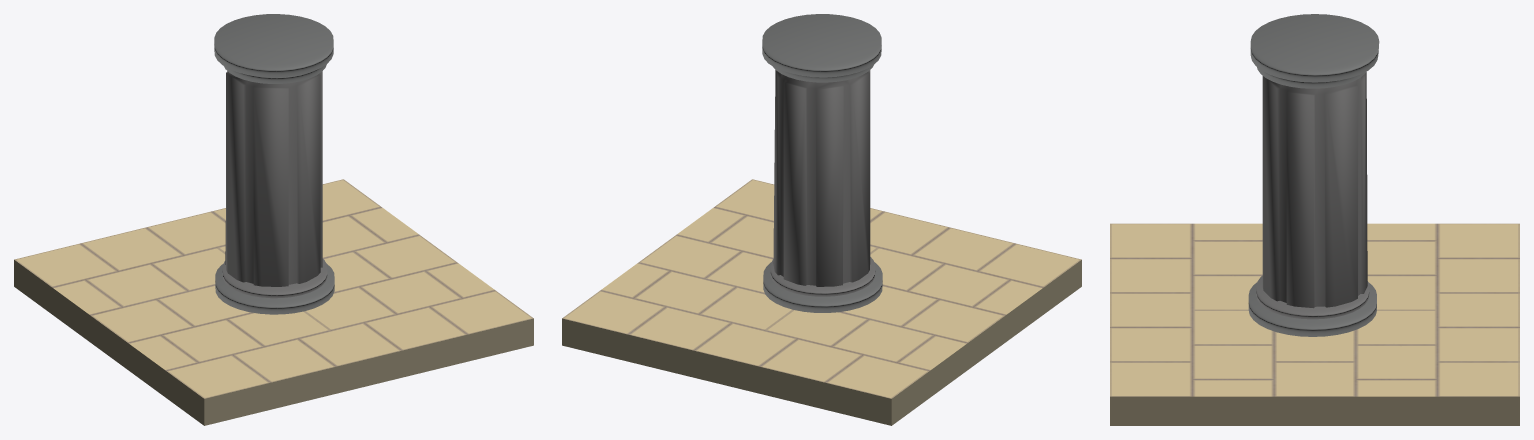
The model's file is tile0077.gltf.
3 views of the same model, side by side, from view 1: azimuth 30°, elevation 25°; view 2: azimuth 150°, elevation 25°; view 3: azimuth 270°, elevation 25° (orthographic). The views are drawn at different scales.
Visible parts, largest first — view 1: Cube, 圓柱體.002, 圓柱體.003, 圓柱體, 圓柱體.001, 圓柱體.004; view 2: Cube, 圓柱體.002, 圓柱體.003, 圓柱體, 圓柱體.001, 圓柱體.004; view 3: Cube, 圓柱體.002, 圓柱體.003, 圓柱體, 圓柱體.001, 圓柱體.004.
Part boxes in pixels (x1,y1,x2,y2): Cube: (14,179,533,425); 圓柱體.002: (225,71,322,286); 圓柱體.003: (214,14,333,77); 圓柱體: (215,263,334,314); 圓柱體.001: (222,259,327,298); 圓柱體.004: (224,64,326,83); Cube: (562,179,1081,425); 圓柱體.002: (773,70,870,286); 圓柱體.003: (762,14,881,77); 圓柱體: (763,262,882,312); 圓柱體.001: (770,257,875,296); 圓柱體.004: (773,65,873,82); Cube: (1110,223,1519,425); 圓柱體.002: (1262,72,1367,308); 圓柱體.003: (1250,14,1379,82); 圓柱體: (1248,282,1376,336); 圓柱體.001: (1256,275,1369,319); 圓柱體.004: (1257,67,1366,88).
Bounding box in the file's own units: 4.95 × 3.98 × 4.95.
Materials: 7 (1 with a texture image).
